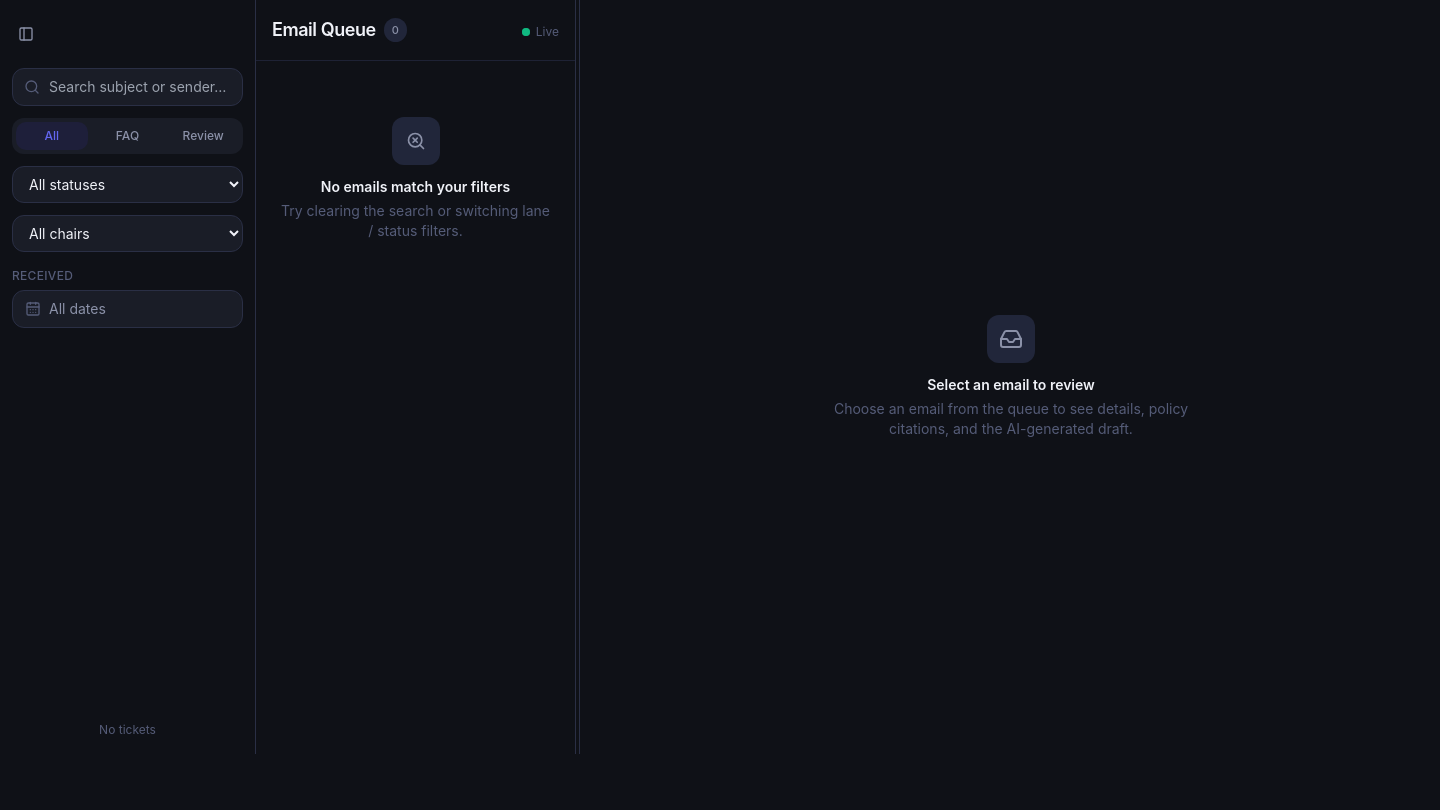
Scenario: filter column — collapsed rendering (N4c) › hides the filter panel when collapsed
Expected: the field with placeholder "Search subject or sender…" is shown, 12,68 -> 243,106
Click the button named "Hide filters" at coordinates (26, 34), box 8,16 -> 44,52
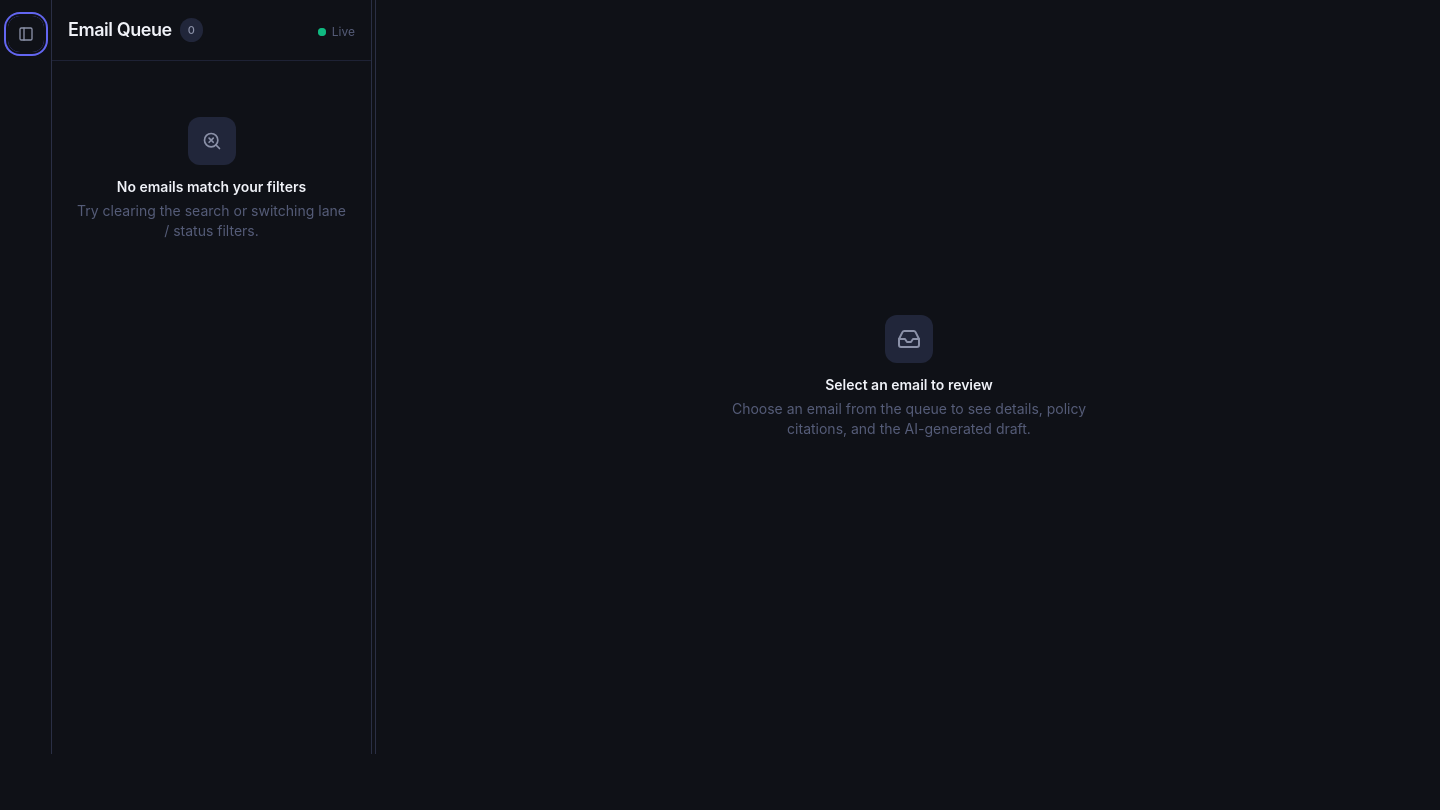
Expected: the field with placeholder "search subject or sender" is not shown
Result: the button "FAQ" is gone
